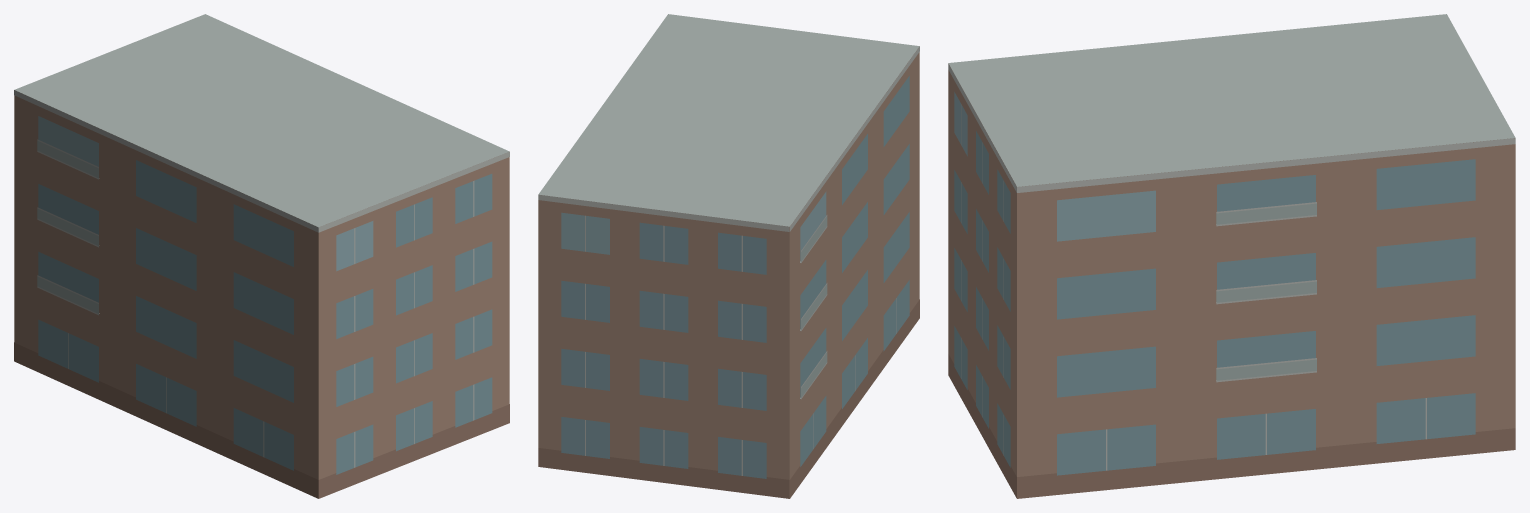
Rendered from survey-upis-32905644.glb.
3 renders of one model, left to right at view 1: azimuth 30°, elevation 25°; view 2: azimuth 150°, elevation 25°; view 3: azimuth 270°, elevation 25°, orthographic. The views are drawn at different scales.
Visible parts, largest first — view 1: survey-upis-32905644.tmp; view 2: survey-upis-32905644.tmp; view 3: survey-upis-32905644.tmp.
Boxes of the visible parts, x1=… form: survey-upis-32905644.tmp: x1=14, y1=14, x2=509, y2=498; survey-upis-32905644.tmp: x1=538, y1=14, x2=919, y2=498; survey-upis-32905644.tmp: x1=948, y1=14, x2=1515, y2=498.
Bounding box in the file's own units: 14.63 × 12.3 × 20.29.
